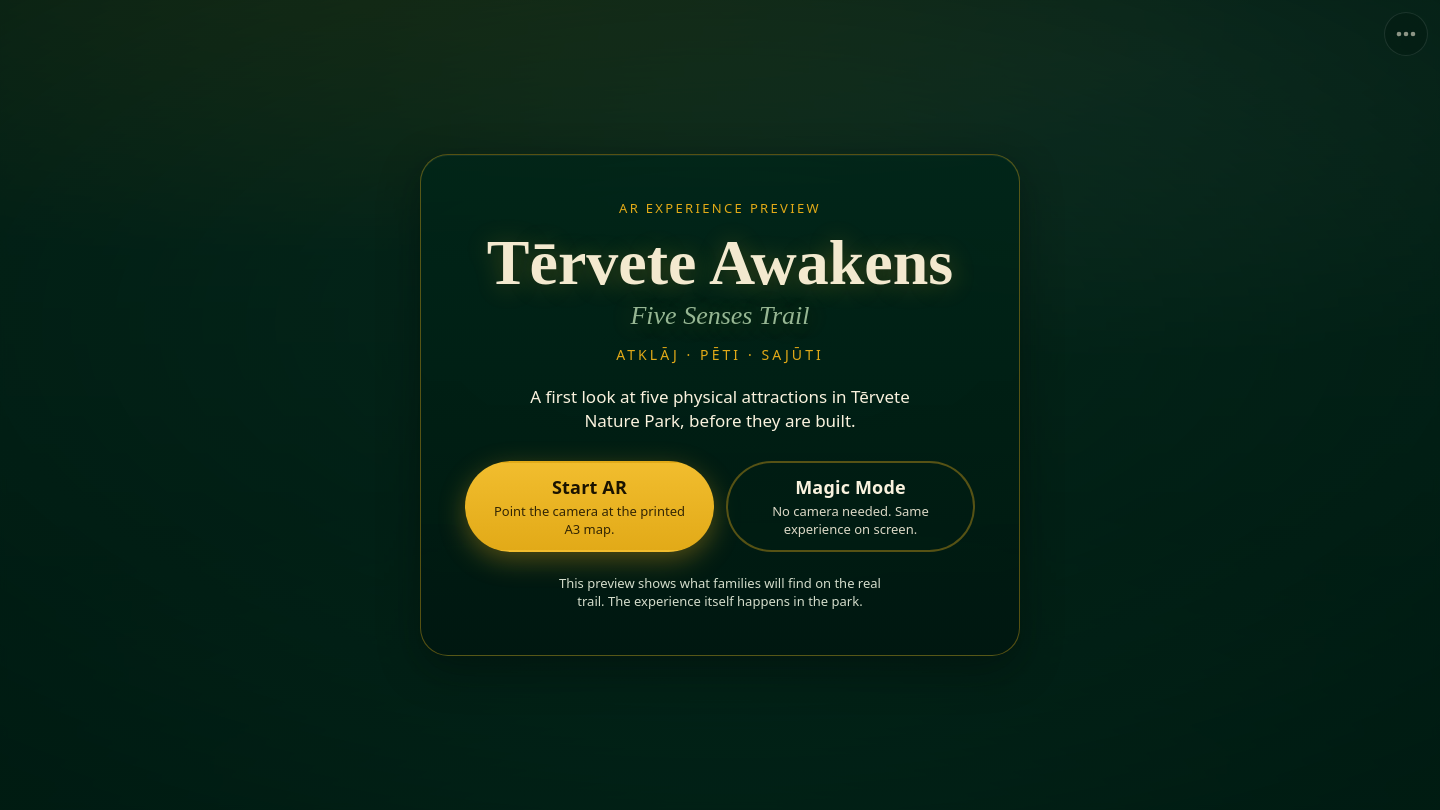
Scenario: Magic Mode, end to end › opens a map with five inactive zones, runs Skats and lights its zone
Later steps or results of the test are not shown.
Step 1. Click the button "Magic Mode No camera needed. Same experience on screen." → (850, 506), box [726, 461, 975, 552]
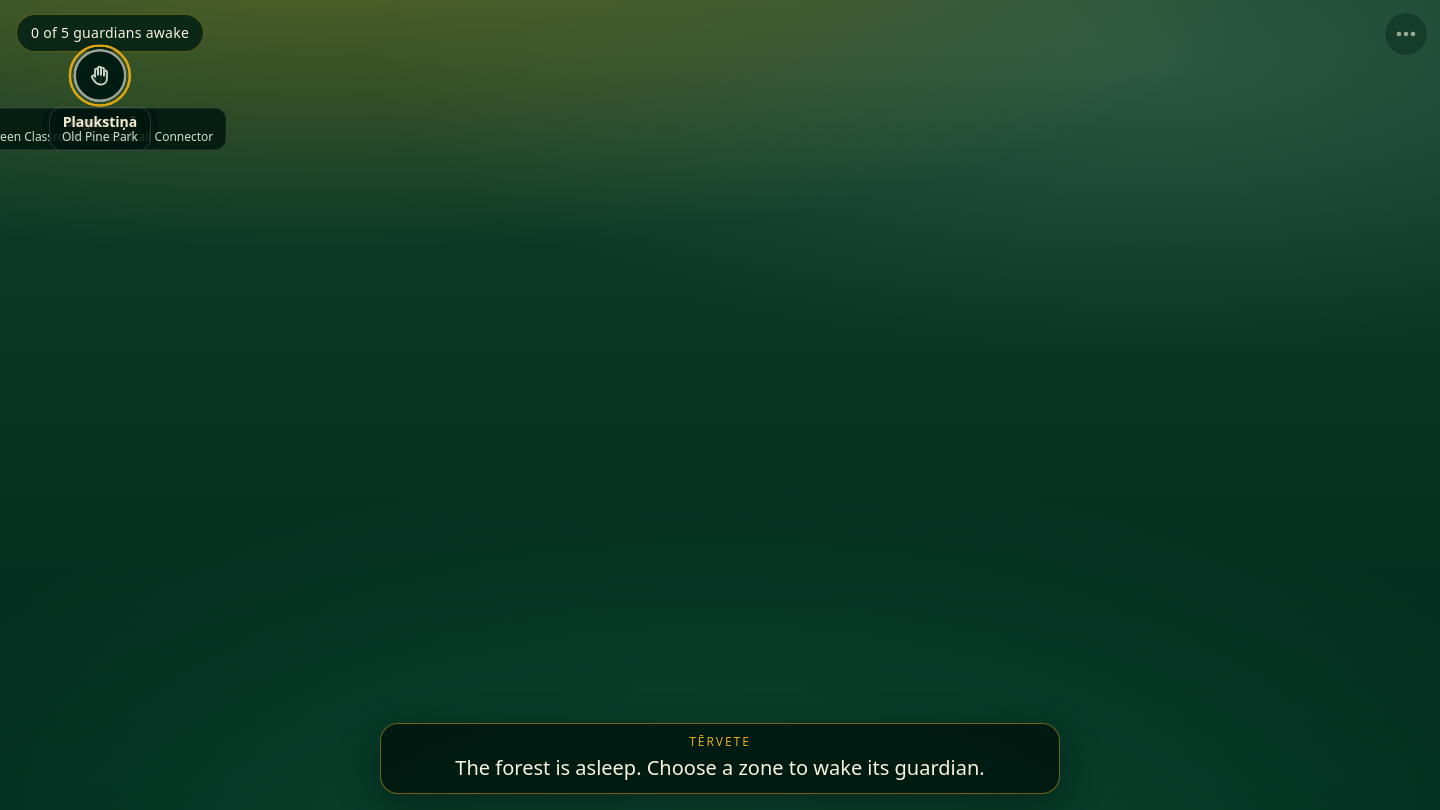
Expected: the text "0 of 5 guardians awake" is shown, [16, 14, 204, 52]
